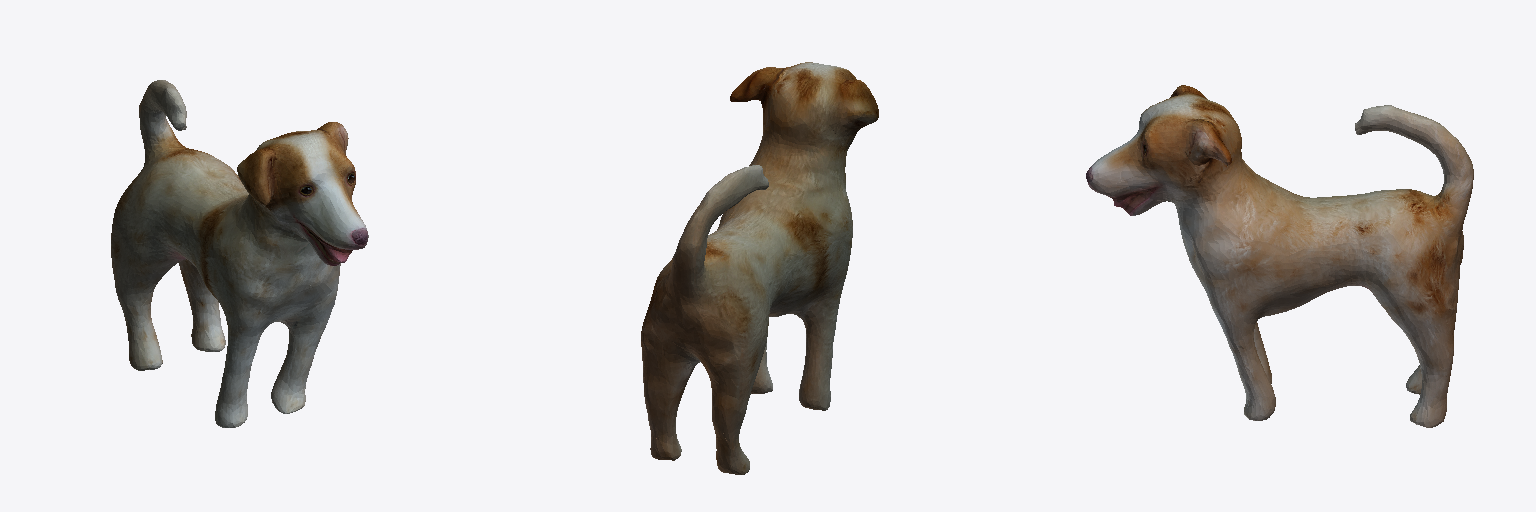
3 views of the same model, side by side, from view 1: azimuth 30°, elevation 25°; view 2: azimuth 150°, elevation 25°; view 3: azimuth 270°, elevation 25° (orthographic).
Visible parts, largest first — view 1: Group_Global; view 2: Group_Global; view 3: Group_Global.
Boxes of the visible parts, <box> form: Group_Global: <box>111,80,368,427</box>; Group_Global: <box>641,62,878,474</box>; Group_Global: <box>1086,85,1473,427</box>.
Bounding box in the file's own units: 1.07 × 2.46 × 2.81.
Materials: 1 (1 with a texture image).